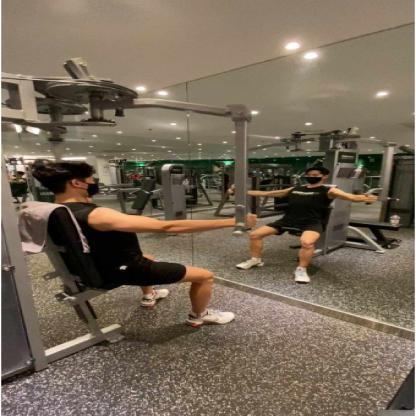chest fly machine: (0, 74, 269, 356)
